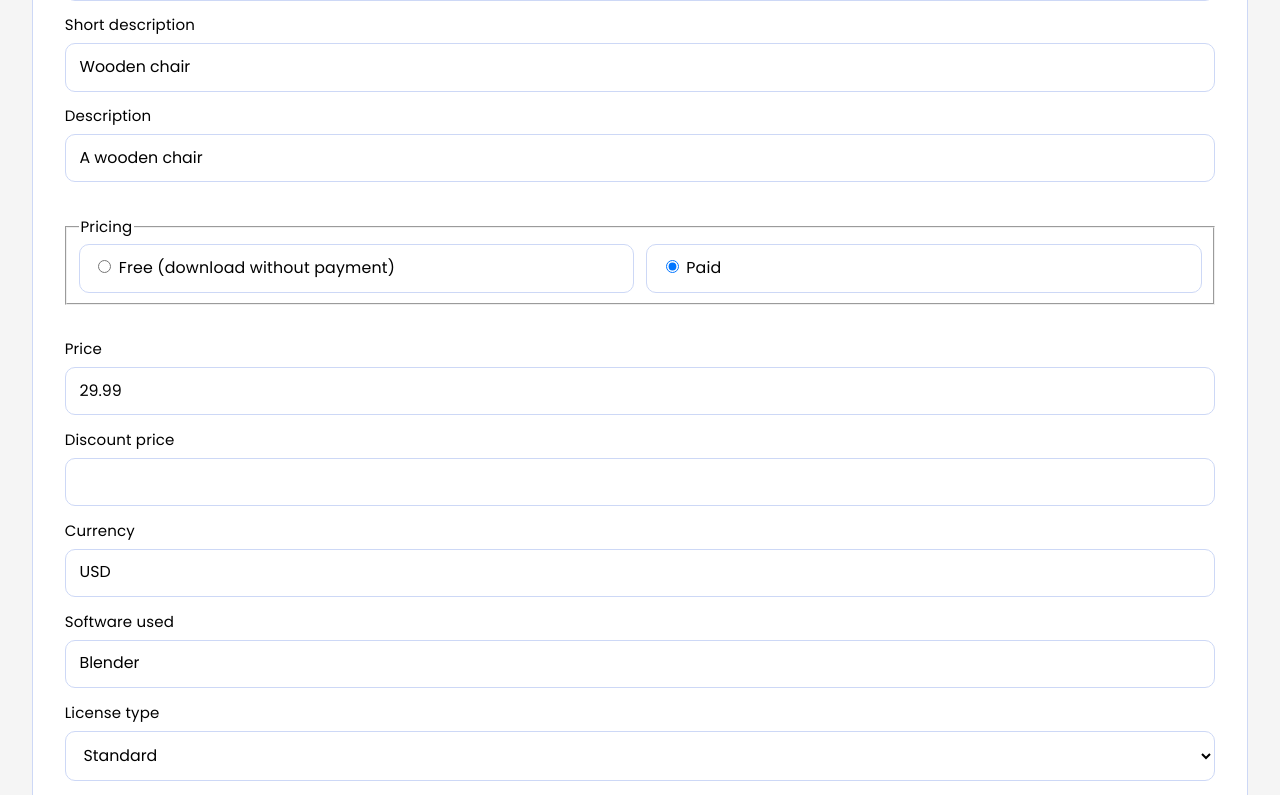
AdminProductDetailPage › needs a price to save a paid product
The image size is (1280, 795).
(page scrolled)
Clear the number field labelled "Price": [640, 391] box [65,367,1215,415]
(page scrolled)
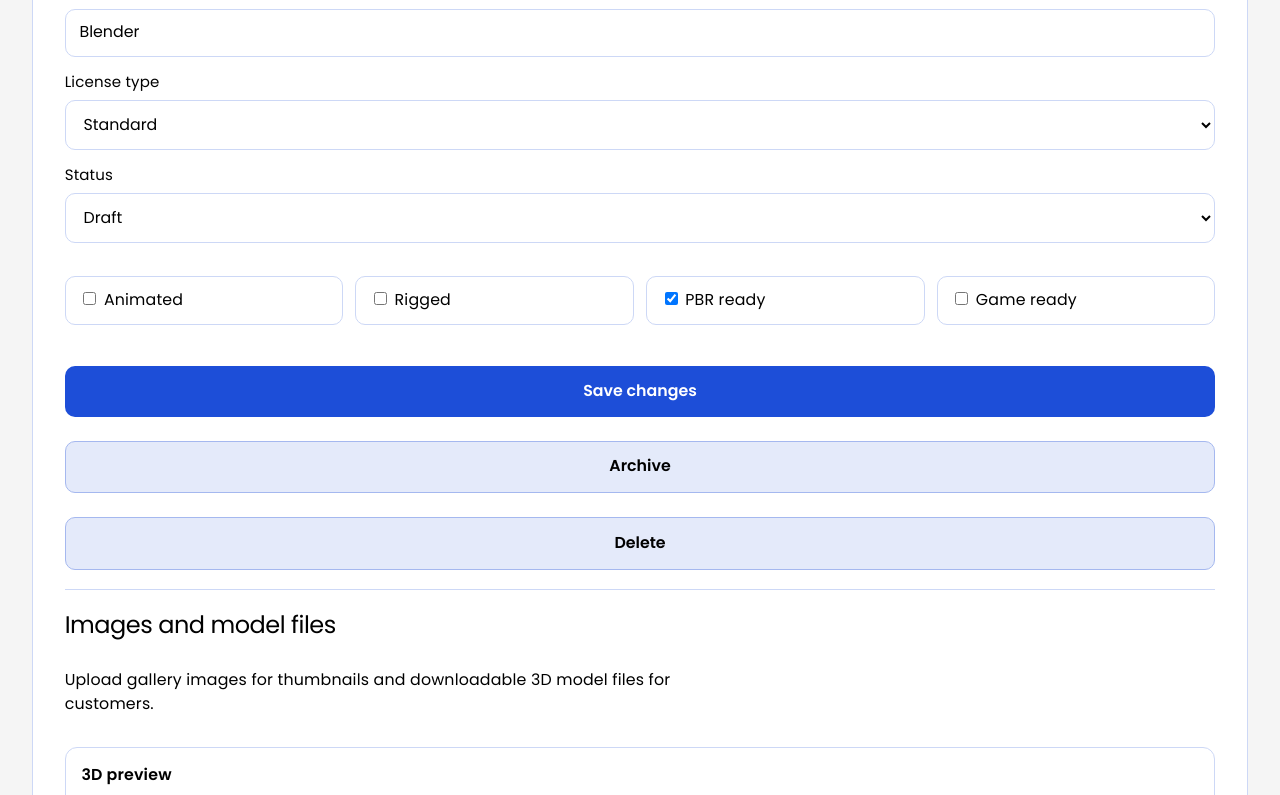
Click the button "Save changes": [640, 392] box [65,366,1215,417]
(page scrolled)
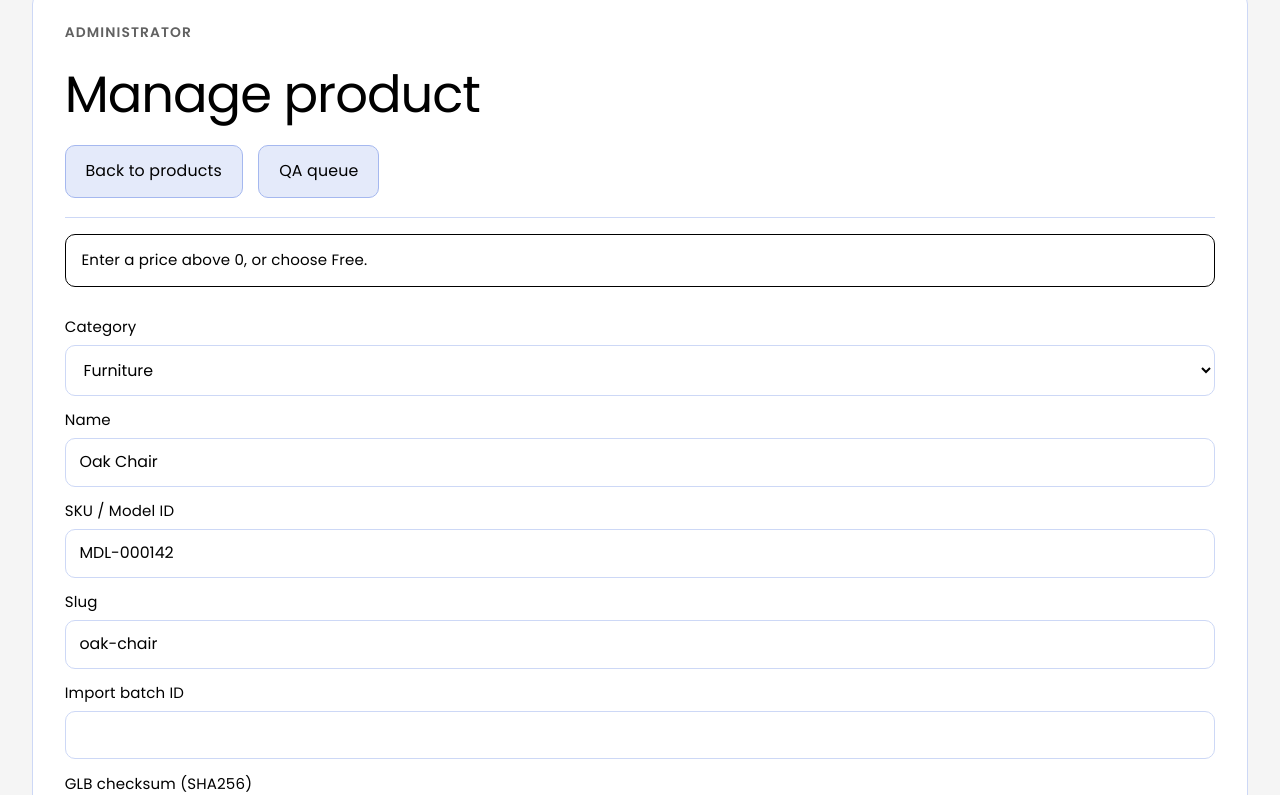
Expected: the text "Enter a price above 0, or choose Free." is shown, [65,234,1215,287]
